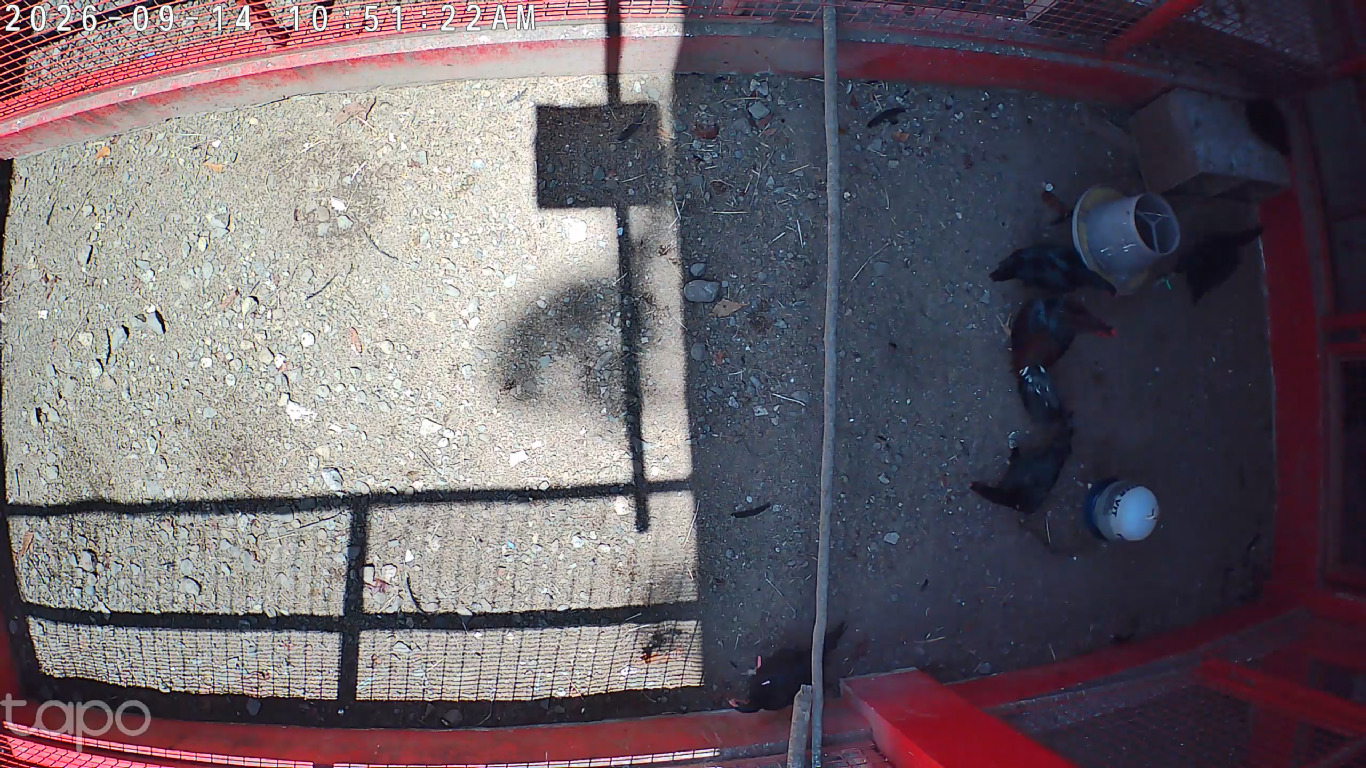Chicken: (728, 619, 848, 715), (967, 416, 1077, 515), (1150, 219, 1269, 307), (982, 233, 1119, 304)
Drinker: (1083, 476, 1161, 543)
Feeder: (1068, 179, 1181, 301)
Rooster: (991, 280, 1120, 442)
